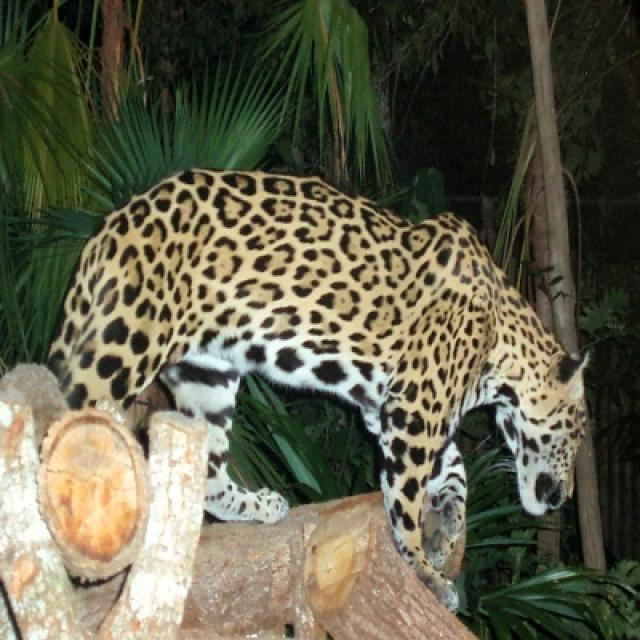Jaguar: (43, 168, 589, 613)
